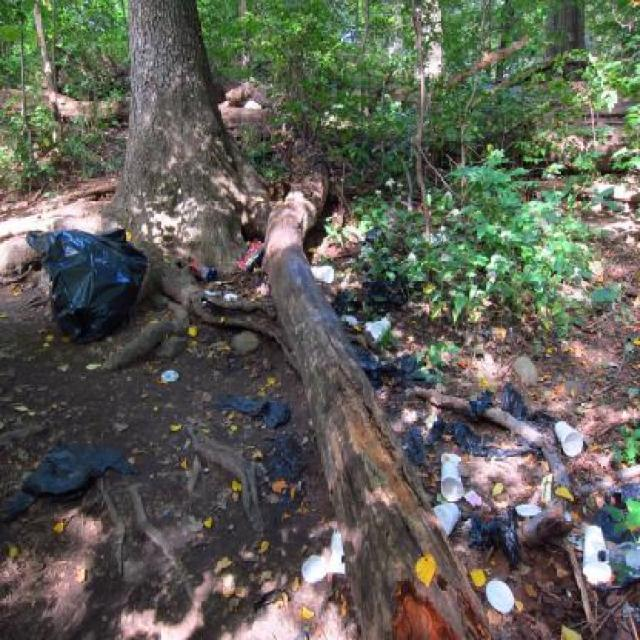garbage: (35, 222, 150, 332), (583, 517, 639, 584), (435, 448, 472, 507), (554, 411, 585, 461), (345, 312, 392, 336), (156, 365, 187, 400), (308, 254, 335, 288)
